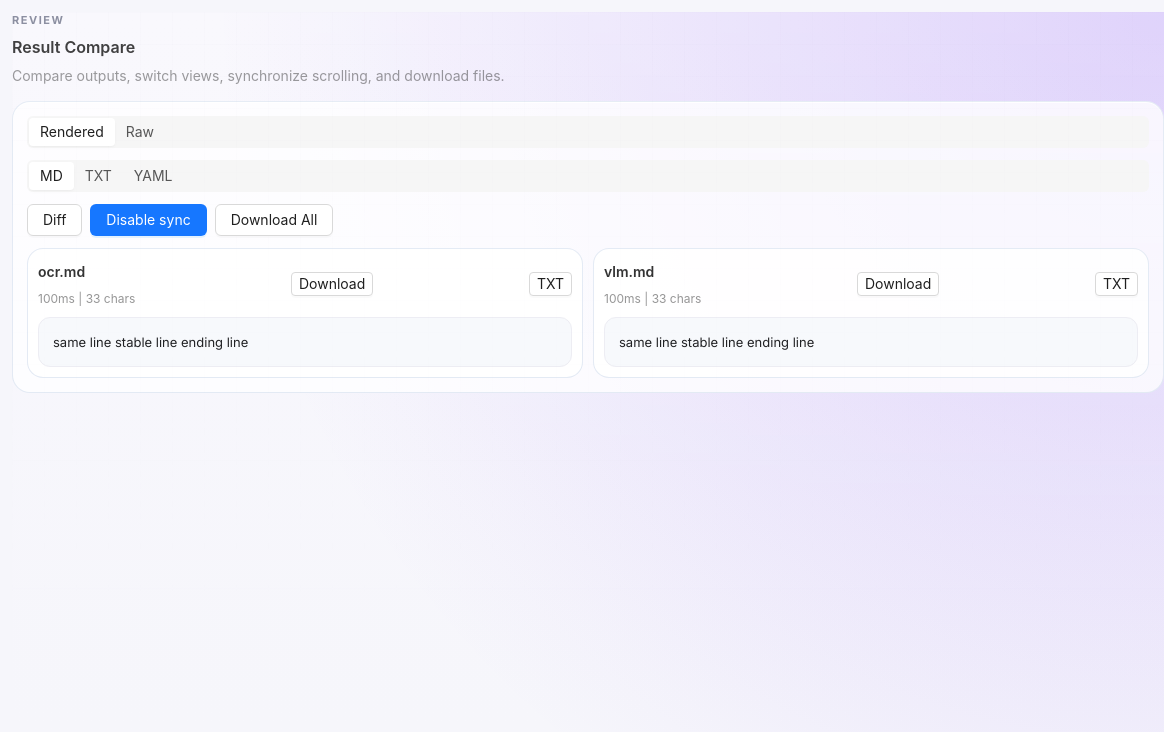
Test: ComparePanel › shows identical-content hint when diff mode is enabled and no diffs exist
Step 1. Click the button "Diff" → (55, 220), box 27,204 -> 82,236
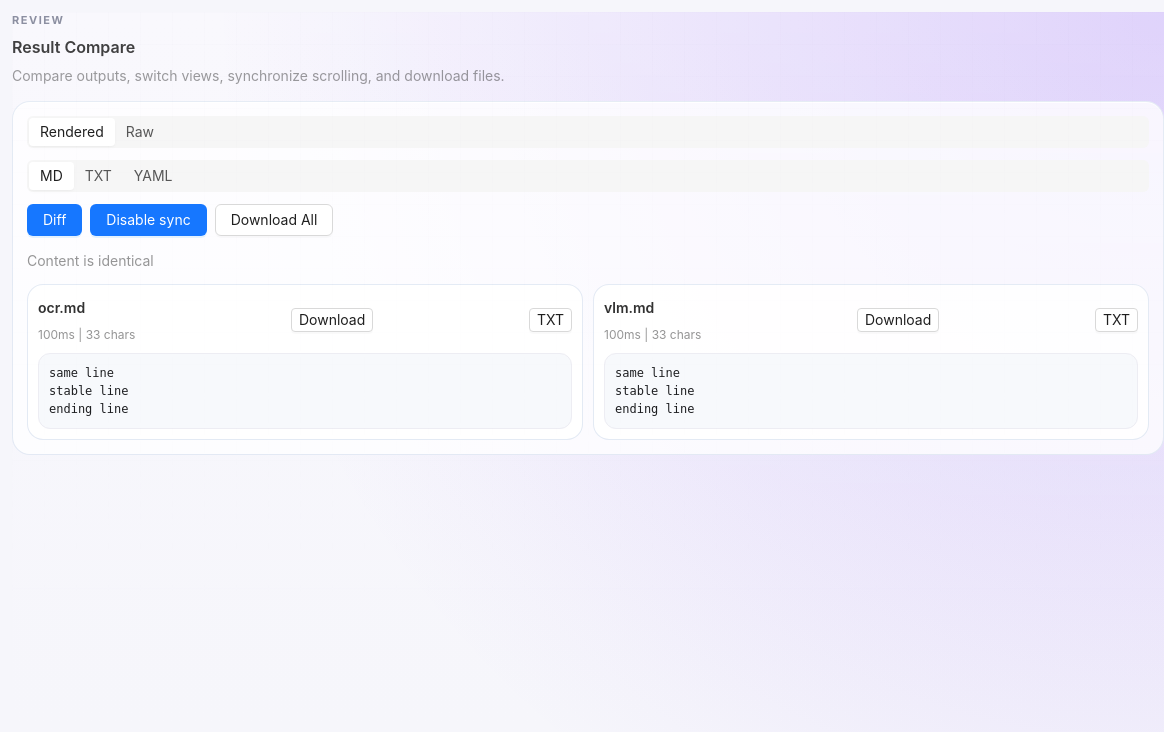
Now the text "Content is identical" is shown, box 27,252 -> 154,268
